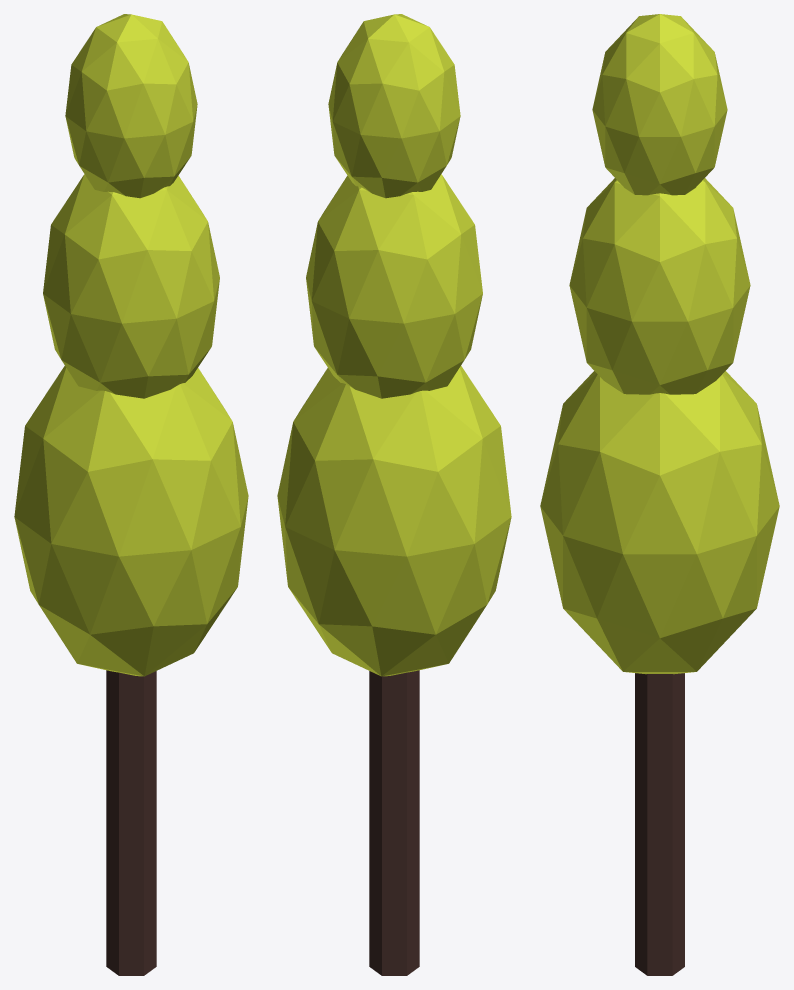
The model's file is Tree_17.fbx.
3 views of the same model, side by side, from view 1: azimuth 30°, elevation 25°; view 2: azimuth 150°, elevation 25°; view 3: azimuth 270°, elevation 25° (orthographic).
Parts seen in each view (by area): view 1: Tree_17; view 2: Tree_17; view 3: Tree_17.
Boxes of the visible parts, x1,y1,x2,y2 form: Tree_17: (14,14,248,975); Tree_17: (277,14,511,975); Tree_17: (540,14,779,975).
Size of the model in its own units: 909 by 4194 by 956.
